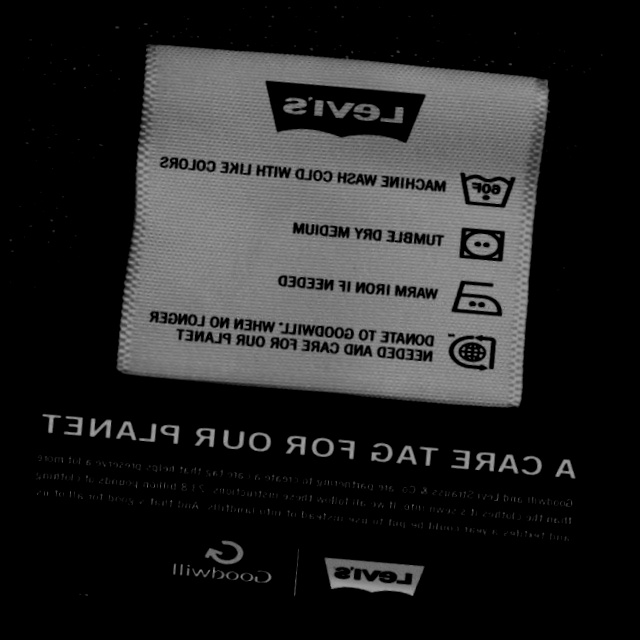30C: (447, 155, 525, 222)
iron_medium: (440, 266, 514, 330)
tumble_dry_medium: (448, 217, 516, 275)
